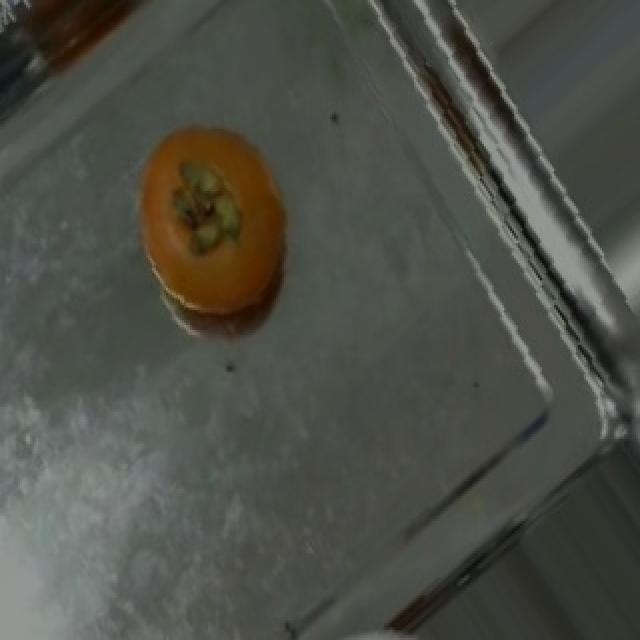Fruit: (114, 102, 312, 335)
